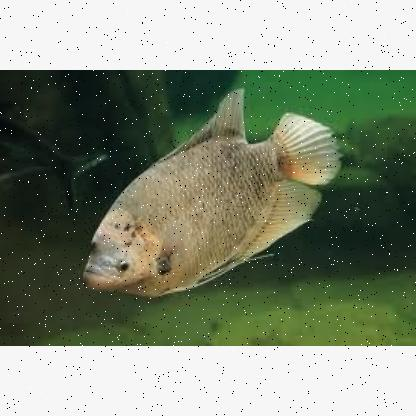gurame: (77, 91, 341, 299)
